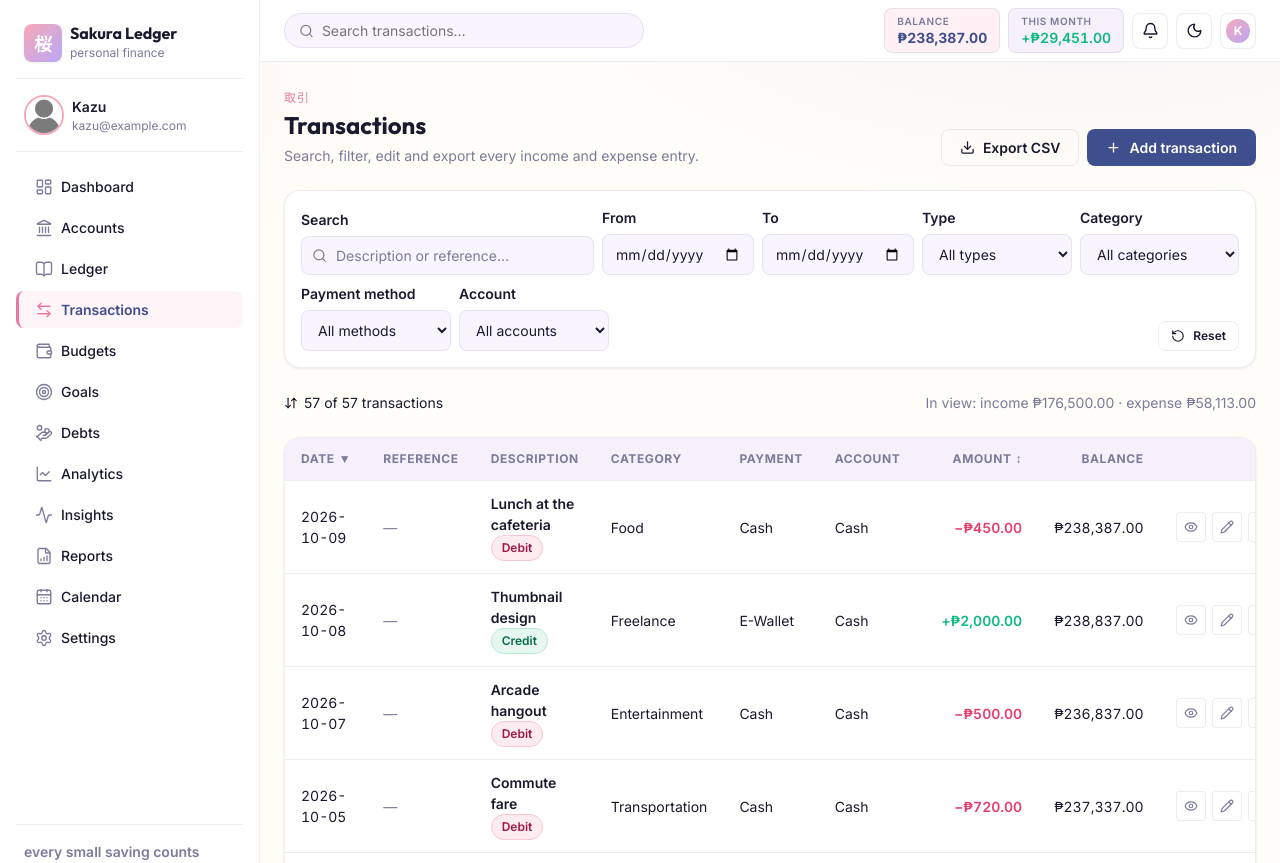
essential user interaction: adding a transaction › shows validation errors for invalid input
Expected: the heading "Transactions" is shown, [284,110,426,140]
Step 1. Click the button "Add transaction" → [1172, 148], box [1088,129,1256,166]
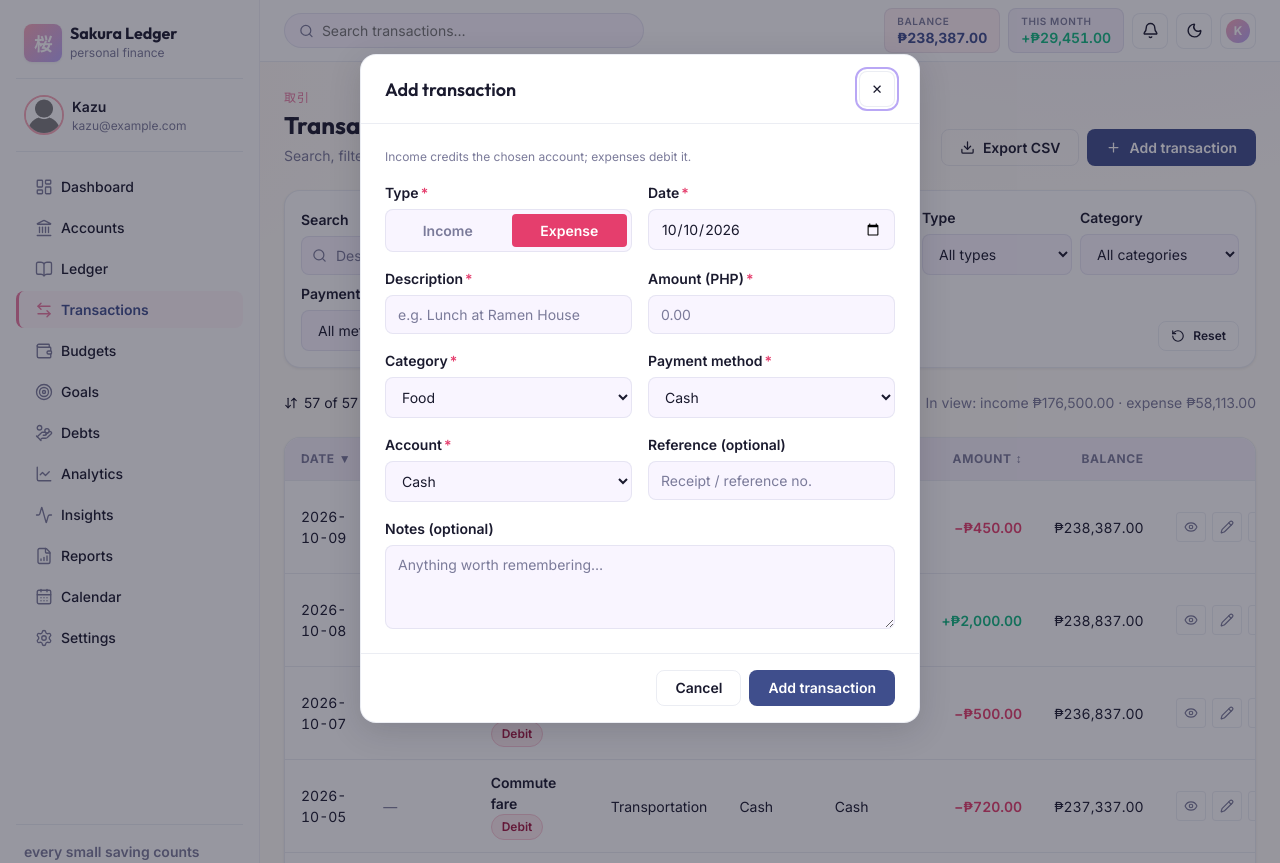
Step 2. Clear the field labelled "Amount (PHP)*" → [772, 314], box [648,295,895,334]
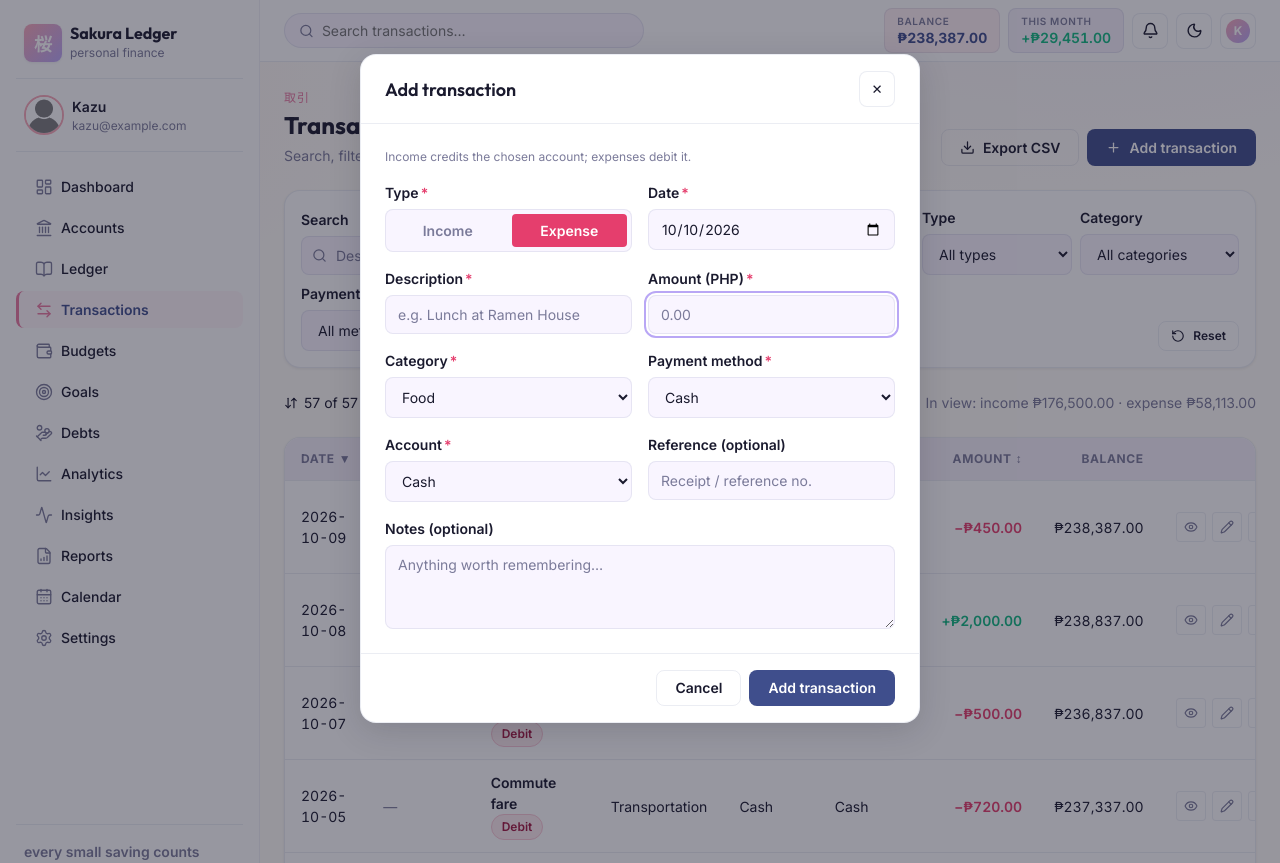
Step 3. Type "No amount" into the field labelled "Description*" → [508, 314], box [385,295,632,334]
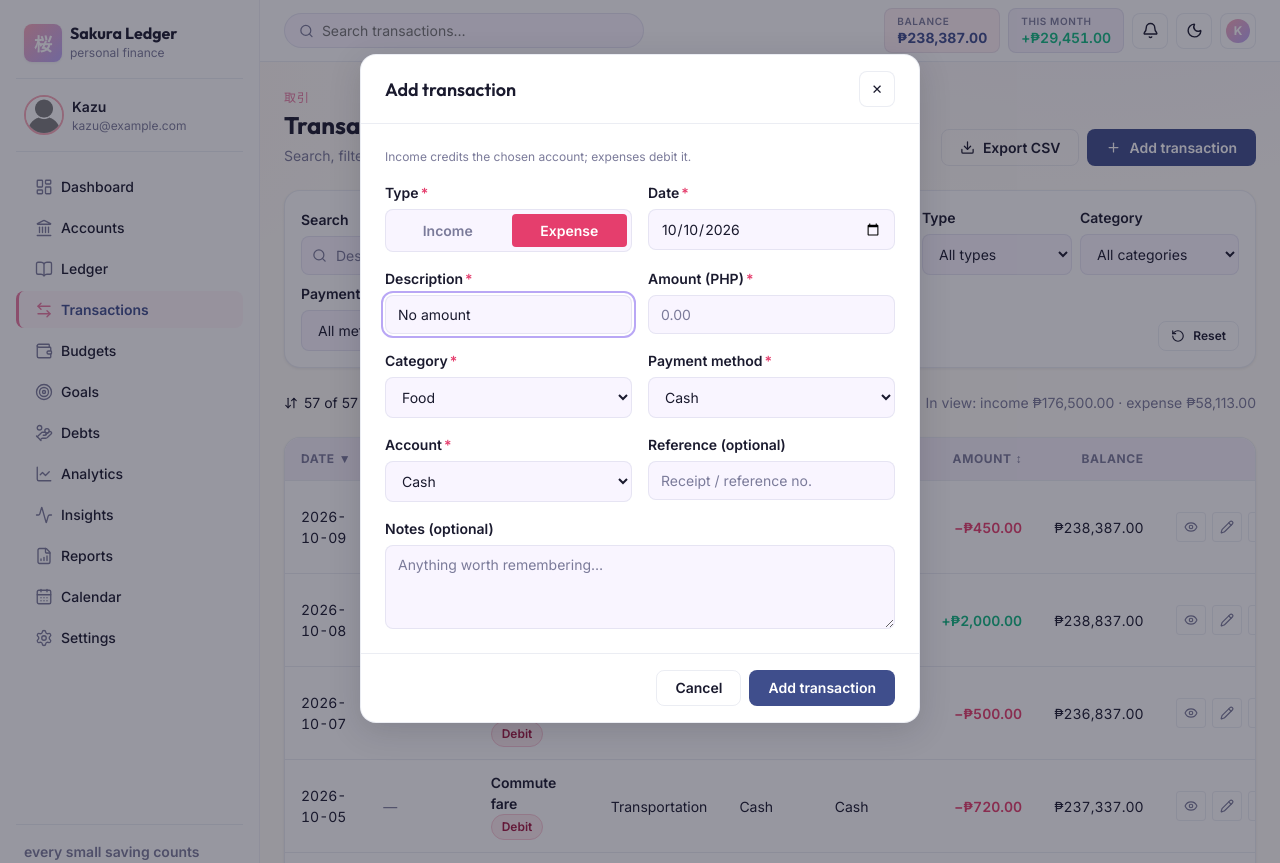
Step 4. Type "0" into the field labelled "Amount (PHP)*" → [772, 314], box [648,295,895,334]
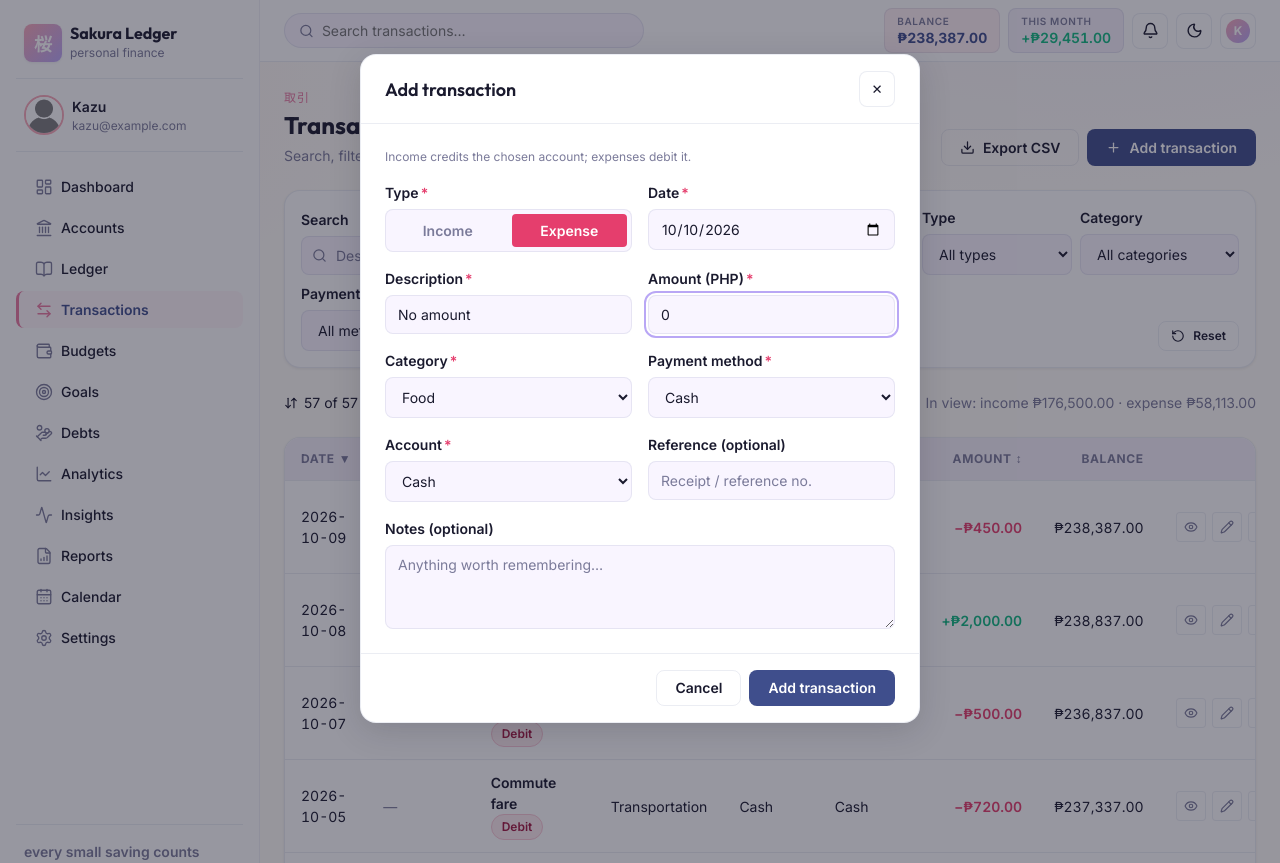
Step 5. Click the button "Add transaction" → [822, 688], box [750,670,895,706]
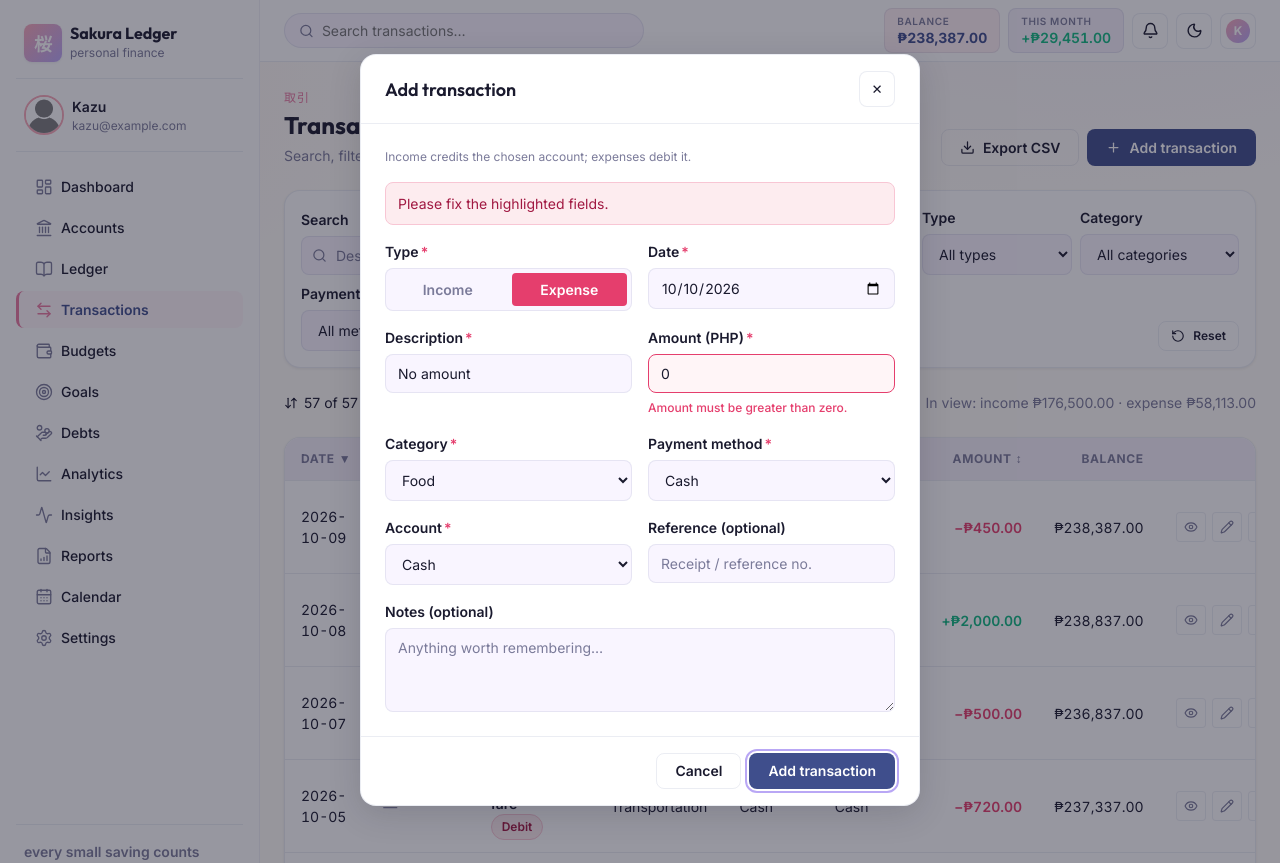
Now the text "Amount must be greater than zero." is shown, box [648,400,848,415]
